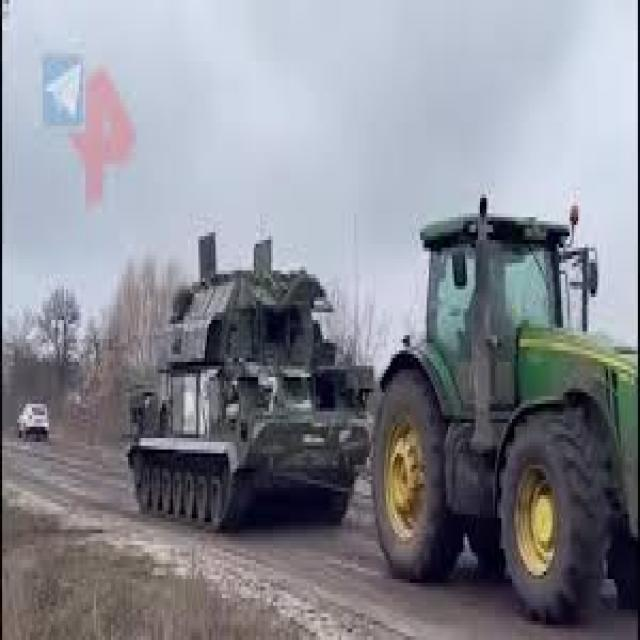Tratores - v5 YOLO V8L 2024-11-13: (378, 156, 640, 640)
